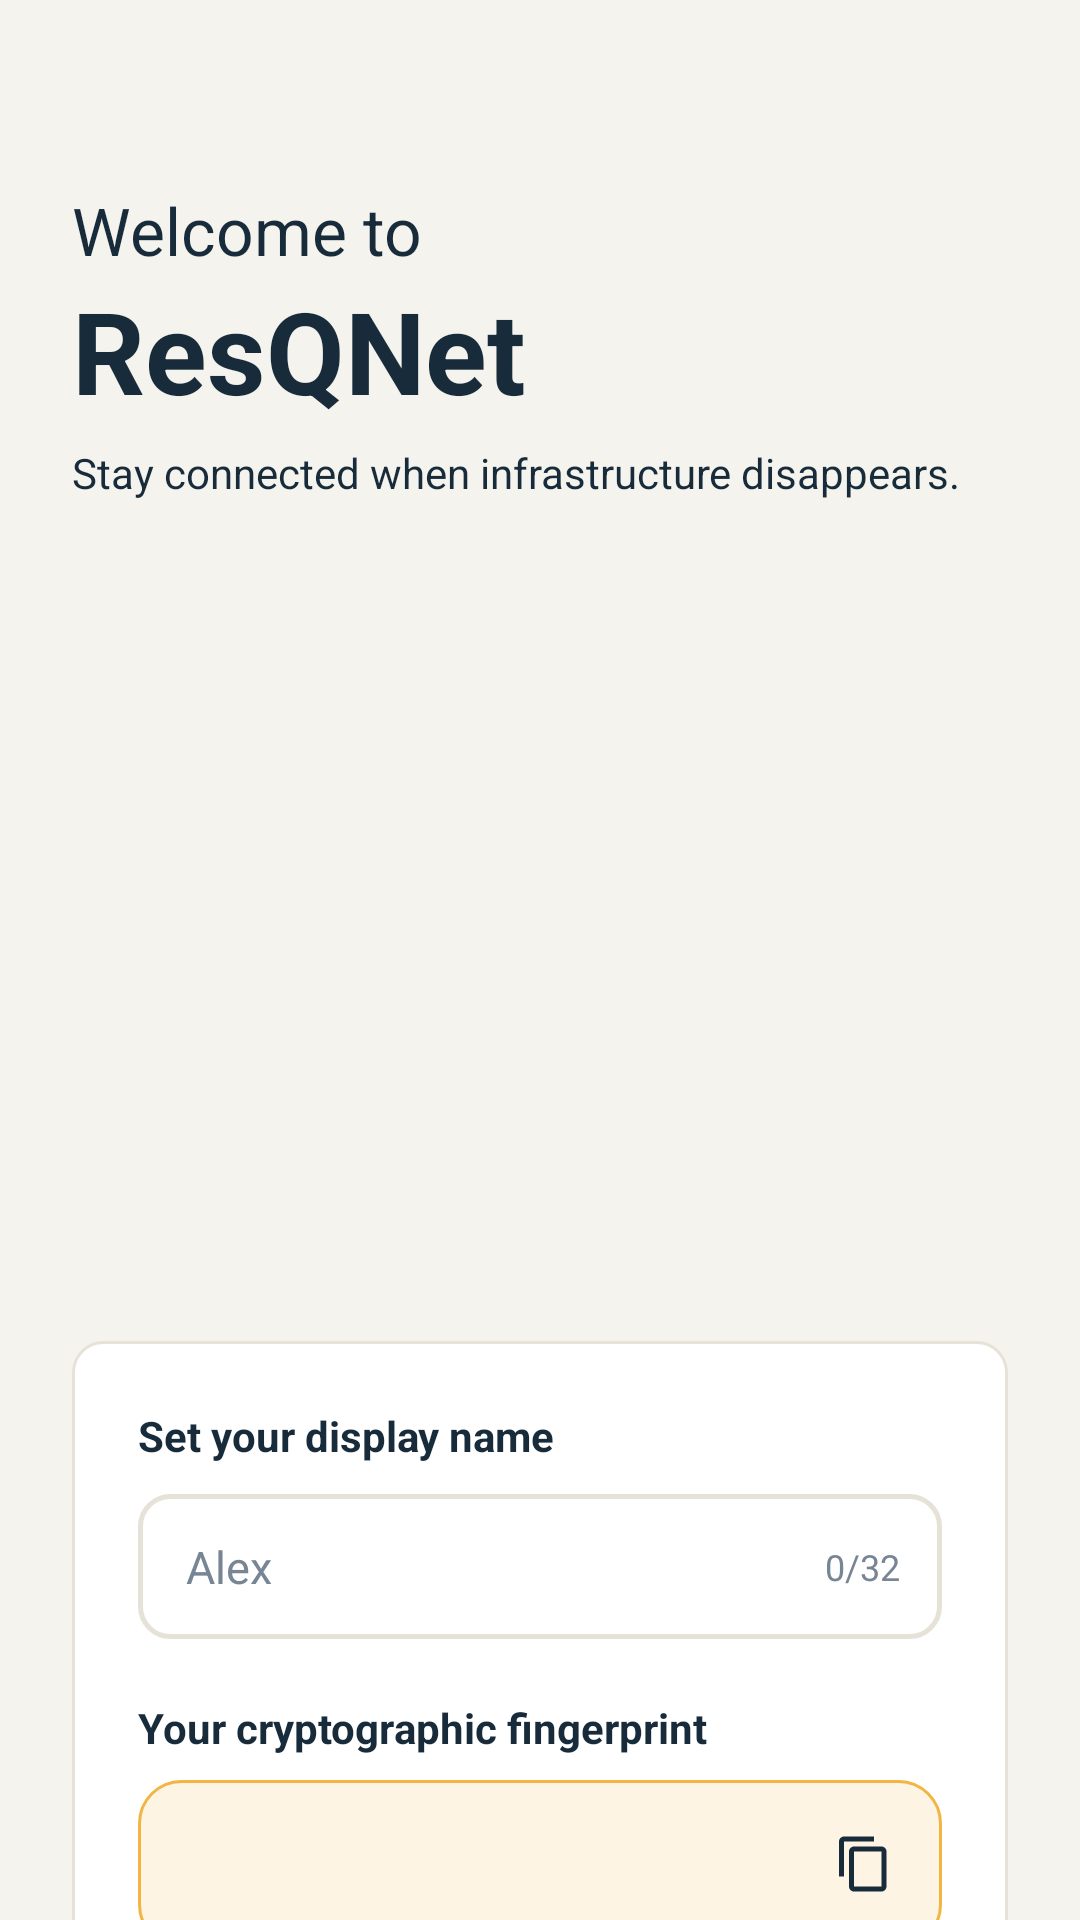

Where to tap for icons on this 1080 x 1920 app screen, as [x,y]:
Copy fingerprint: [863,1864]
